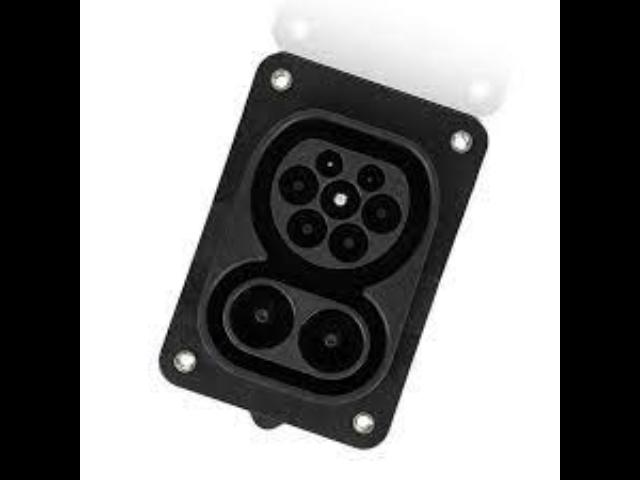inlet: (270, 139, 409, 270)
inlet-above-left: (315, 150, 343, 177)
inlet-above-right: (356, 164, 385, 192)
inlet-below-left: (287, 208, 328, 248)
inlet-below-right: (328, 224, 369, 263)
inlet-circle: (320, 180, 360, 220)
inlet-circle-left: (279, 164, 319, 205)
inlet-circle-right: (362, 194, 401, 234)
inlet-minus: (298, 309, 364, 373)
inlet-plus: (229, 285, 294, 349)
